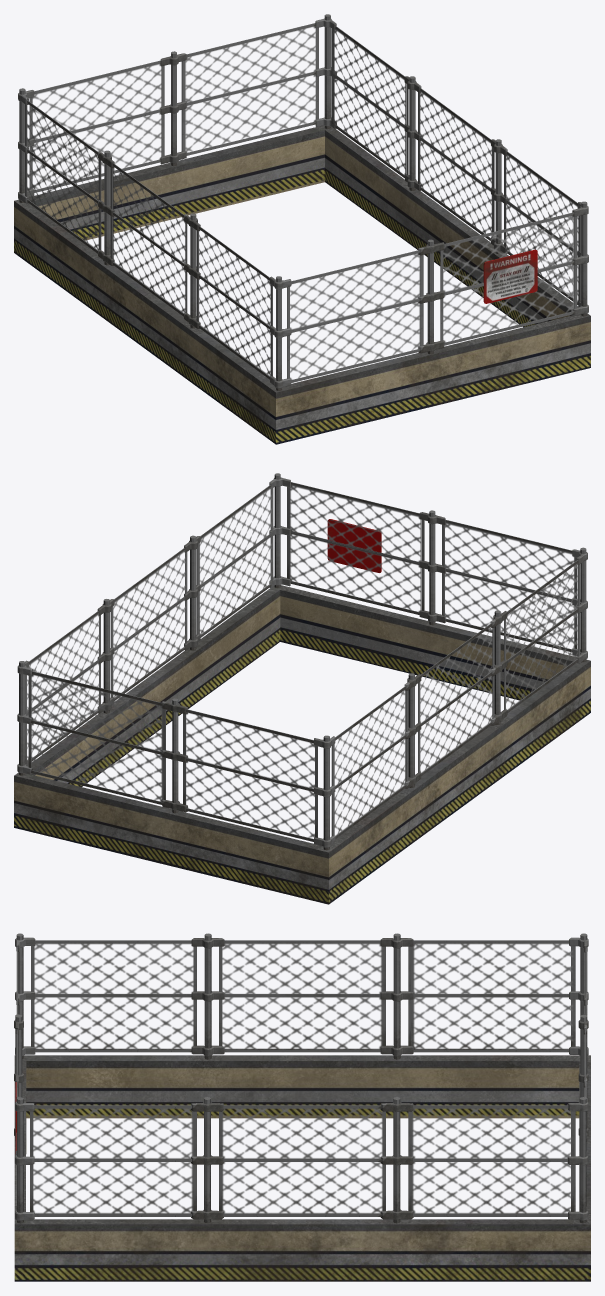
3 views of the same model, one above another, from view 1: azimuth 30°, elevation 25°; view 2: azimuth 150°, elevation 25°; view 3: azimuth 270°, elevation 25° (orthographic). The views are drawn at different scales.
Visible parts, largest first — view 1: fenceLow; view 2: fenceLow; view 3: fenceLow.
Boxes of the visible parts, bbox=[...] form: fenceLow: bbox=[14, 14, 590, 444]; fenceLow: bbox=[14, 473, 590, 904]; fenceLow: bbox=[14, 933, 590, 1281].
Bounding box in the file's own units: 1.39 × 0.6904 × 2.
Materials: 1 (1 with a texture image).
